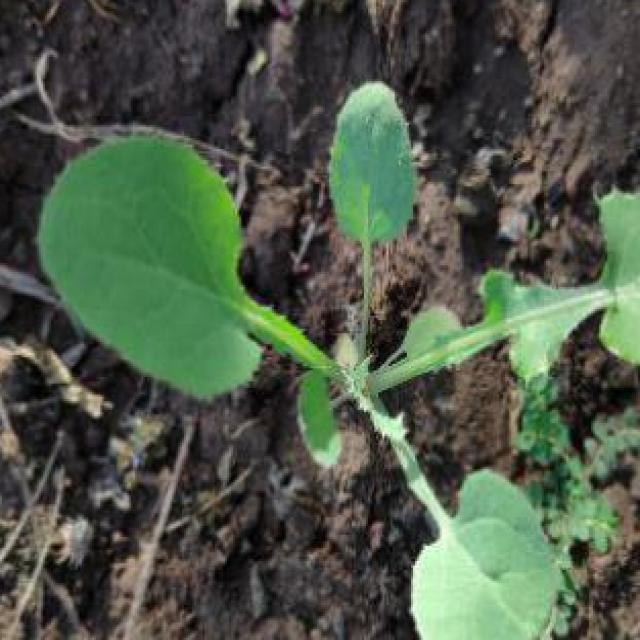weed: (20, 52, 639, 640)
